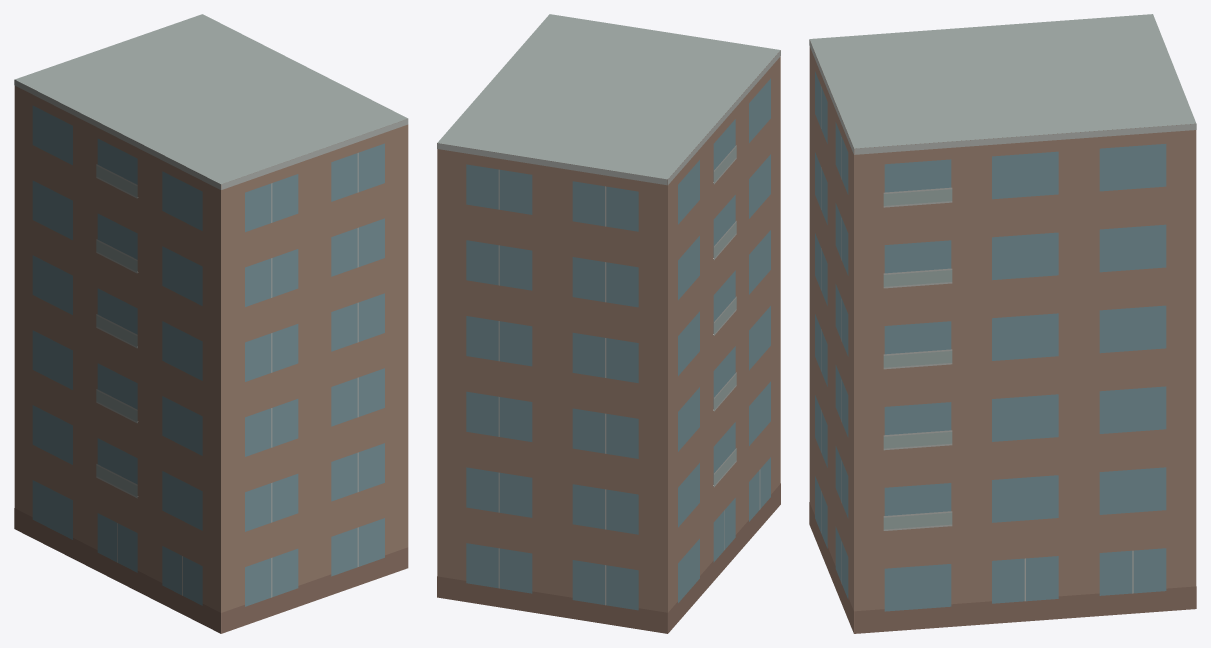
Rendered from survey-upis-32704514.glb.
The picture shows the model from 3 angles, left to right: view 1: azimuth 30°, elevation 25°; view 2: azimuth 150°, elevation 25°; view 3: azimuth 270°, elevation 25°; orthographic projection. The views are drawn at different scales.
Parts seen in each view (by area): view 1: survey-upis-32704514.tmp; view 2: survey-upis-32704514.tmp; view 3: survey-upis-32704514.tmp.
Boxes of the visible parts, <box> form: survey-upis-32704514.tmp: <box>14,14,408,633</box>; survey-upis-32704514.tmp: <box>437,14,780,633</box>; survey-upis-32704514.tmp: <box>809,14,1196,633</box>.
Bounding box in the file's own units: 11.13 × 18.7 × 13.53.
